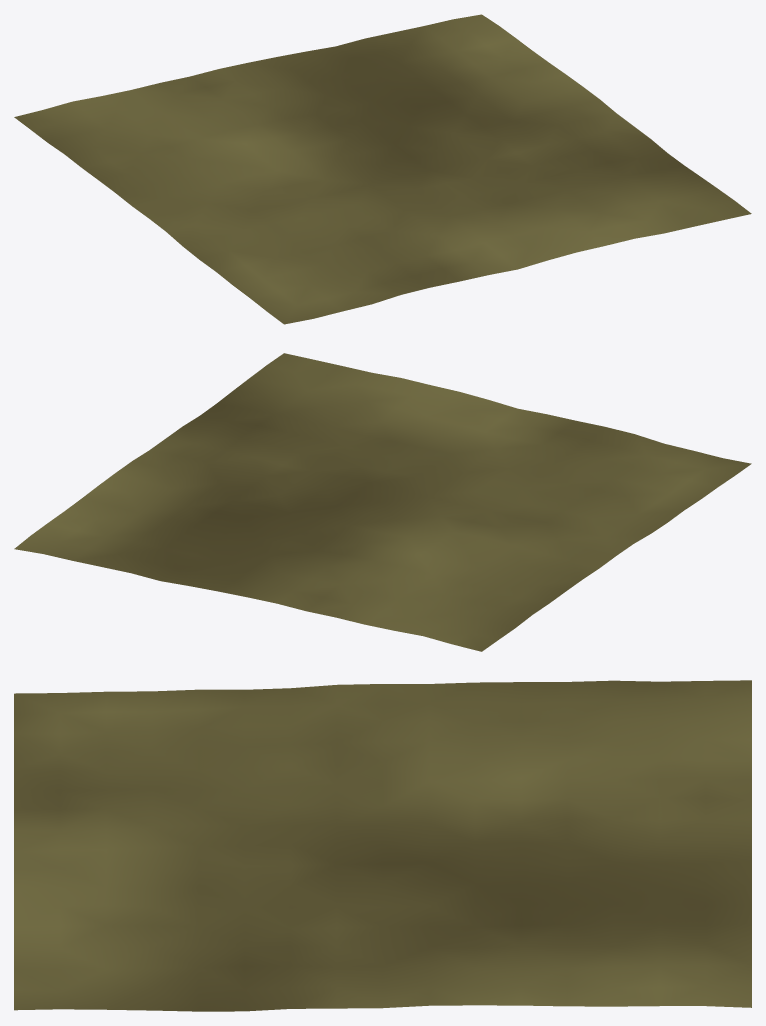
Rendered from terrain_lod1_4_1.obj.
The picture shows the model from 3 angles, top to bottom: view 1: azimuth 30°, elevation 25°; view 2: azimuth 150°, elevation 25°; view 3: azimuth 270°, elevation 25°; orthographic projection. The views are drawn at different scales.
Visible parts, largest first — view 1: terrain_lod1_4_1; view 2: terrain_lod1_4_1; view 3: terrain_lod1_4_1.
Part boxes in pixels (x1=…): terrain_lod1_4_1: x1=14, y1=14, x2=751, y2=324; terrain_lod1_4_1: x1=14, y1=353, x2=751, y2=651; terrain_lod1_4_1: x1=14, y1=680, x2=751, y2=1011.
Bounding box in the file's own units: 128 × 4.06 × 128.
